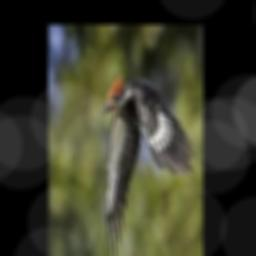Woodpecker: (101, 73, 196, 256)
